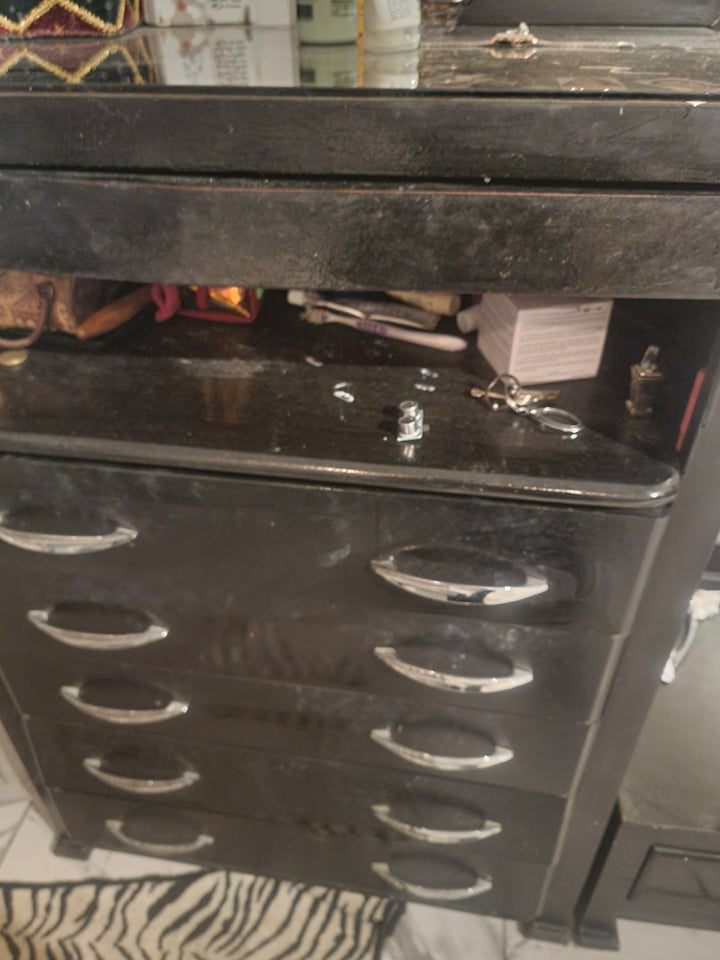SENSOR: (395, 398, 426, 443)
